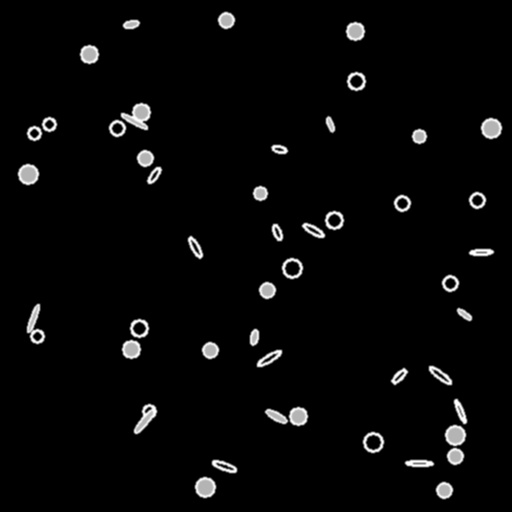pseudomonas: (132, 408, 156, 434), (428, 364, 452, 386), (256, 348, 282, 368), (120, 112, 148, 130), (26, 304, 40, 332), (187, 235, 203, 259), (211, 459, 237, 473), (453, 398, 467, 424), (302, 222, 324, 238), (265, 408, 287, 424), (390, 367, 408, 385), (146, 165, 162, 185), (456, 307, 472, 321), (271, 223, 283, 241), (405, 460, 433, 466), (123, 19, 139, 29), (271, 144, 287, 154), (325, 116, 335, 132), (469, 249, 493, 255), (250, 329, 258, 345)
synechocystis: (482, 119, 500, 137), (196, 478, 214, 496), (364, 433, 382, 451), (283, 259, 301, 277), (446, 426, 464, 444), (19, 165, 37, 183), (348, 73, 364, 89), (131, 320, 147, 336), (347, 23, 363, 39), (133, 104, 149, 120), (123, 341, 139, 357), (81, 46, 97, 62), (326, 212, 342, 228), (290, 408, 306, 424), (110, 121, 124, 135), (395, 196, 409, 210), (260, 283, 274, 297), (443, 276, 457, 290), (470, 193, 484, 207), (138, 151, 152, 165), (448, 449, 462, 463), (203, 343, 217, 357), (219, 13, 233, 27), (437, 483, 451, 497), (143, 405, 155, 417), (43, 118, 55, 130), (31, 330, 43, 342), (413, 130, 425, 142), (28, 127, 40, 139), (254, 187, 266, 199)
